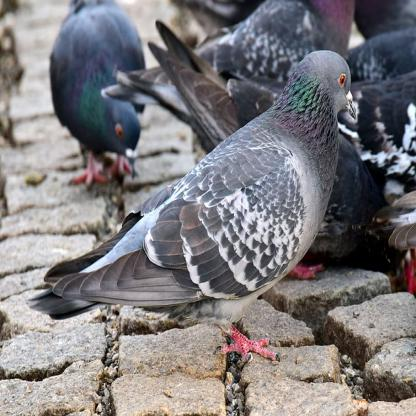Flying Rat: (38, 58, 346, 390)
